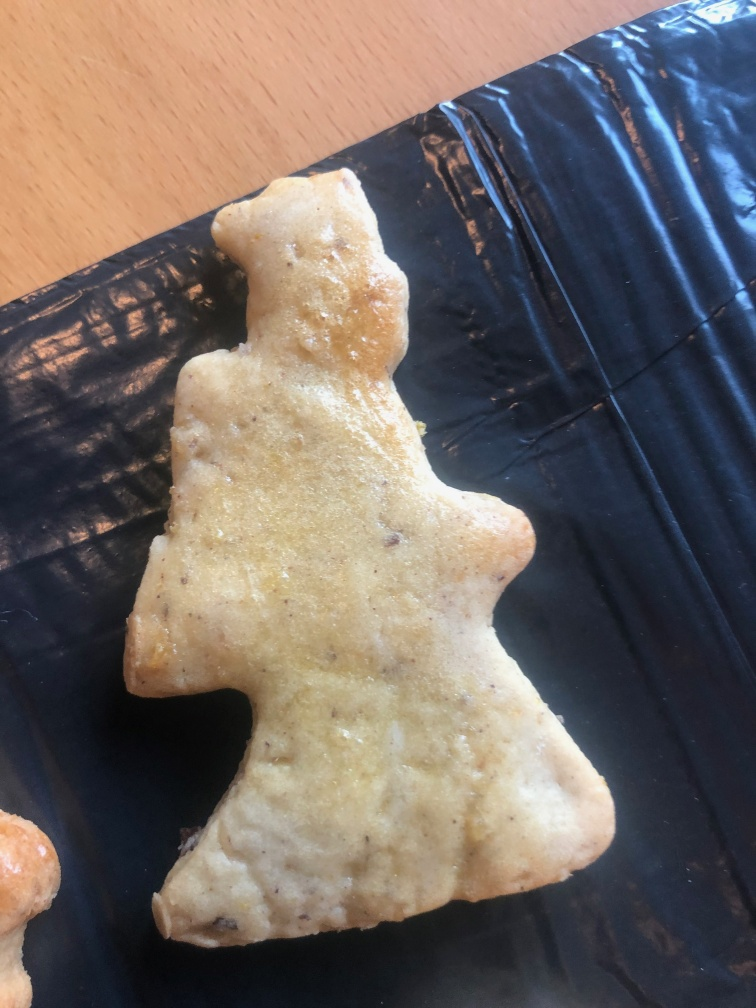king mage: (117, 167, 622, 946)
